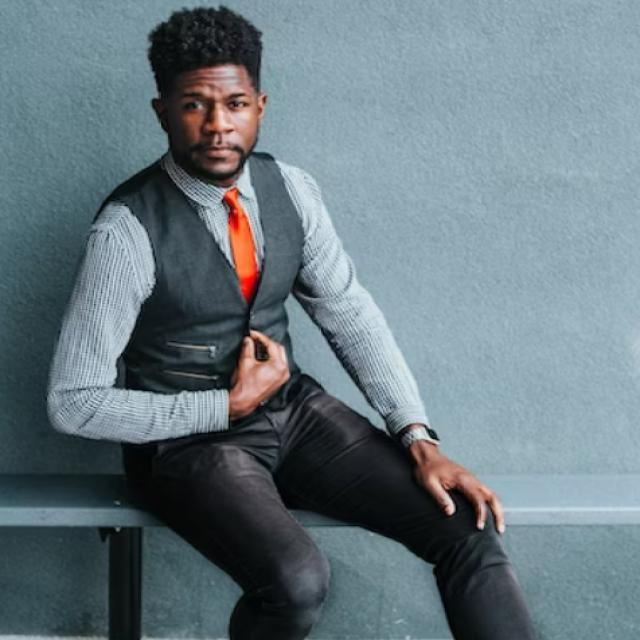Watch: (399, 417, 449, 450)
